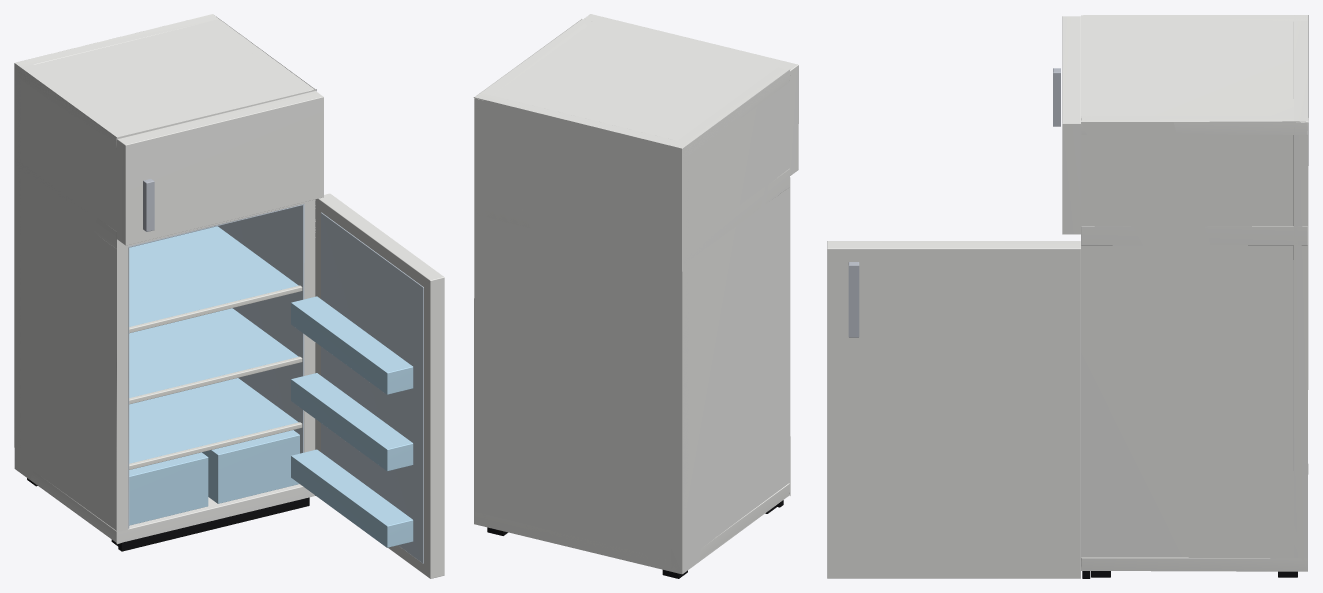
The model's file is fridge.glb.
The picture shows the model from 3 angles, left to right: view 1: azimuth 30°, elevation 25°; view 2: azimuth 150°, elevation 25°; view 3: azimuth 270°, elevation 25°; orthographic projection. The views are drawn at different scales.
Parts seen in each view (by area): view 1: fridge.001; view 2: fridge.001; view 3: fridge.001.
Boxes of the visible parts, bbox=[...] form: fridge.001: bbox=[14, 14, 444, 578]; fridge.001: bbox=[473, 14, 798, 578]; fridge.001: bbox=[827, 15, 1308, 578].
Bounding box in the file's own units: 425 × 761 × 721.
